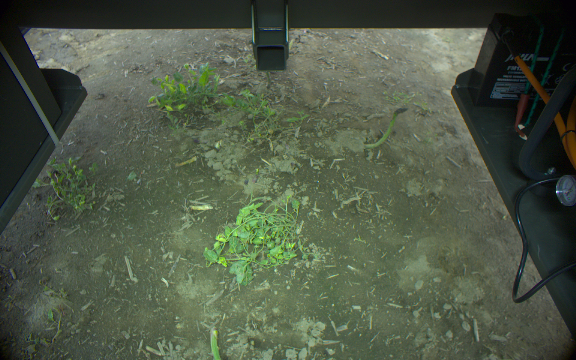aspa: (364, 106, 408, 150), (210, 328, 223, 360)
